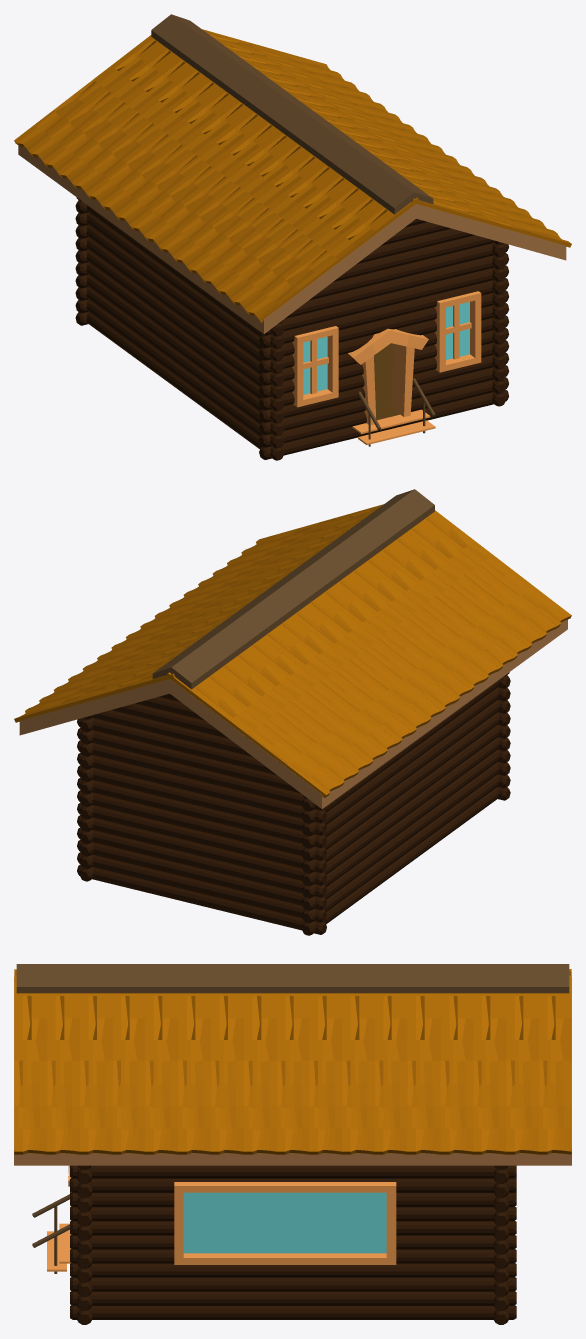
File: house 1.fbx
The picture shows the model from 3 angles, top to bottom: view 1: azimuth 30°, elevation 25°; view 2: azimuth 150°, elevation 25°; view 3: azimuth 270°, elevation 25°; orthographic projection. The views are drawn at different scales.
Visible parts, largest first — view 1: house3, tangga3; view 2: house3; view 3: house3, tangga3, pegangan3.
Boxes of the visible parts, x1,y1,x2,y2 form: house3: [14, 14, 571, 460]; tangga3: [352, 409, 435, 444]; house3: [14, 489, 571, 935]; house3: [14, 964, 571, 1324]; tangga3: [47, 1223, 70, 1271]; pegangan3: [32, 1194, 69, 1273].
Bounding box in the file's own units: 2317 × 1841 × 3157.
